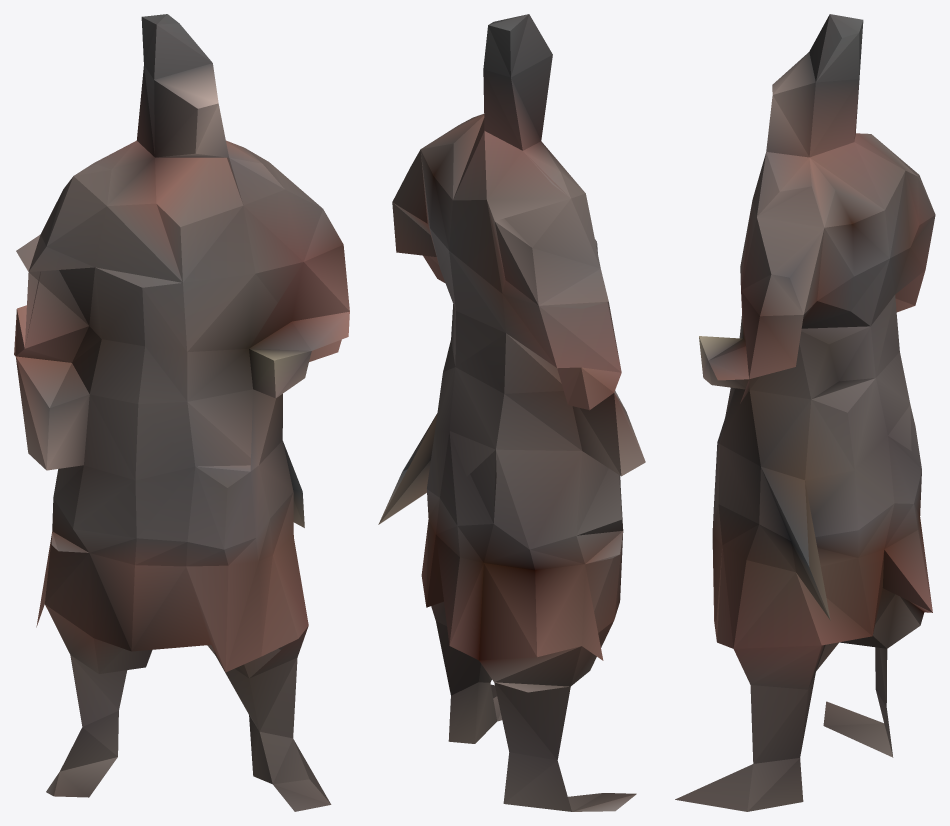
Rendered from guard2_lod2.glb.
3 renders of one model, left to right at view 1: azimuth 30°, elevation 25°; view 2: azimuth 150°, elevation 25°; view 3: azimuth 270°, elevation 25°, orthographic. The views are drawn at different scales.
Parts seen in each view (by area): view 1: geometry_0; view 2: geometry_0; view 3: geometry_0.
Part boxes in pixels (left/top/right/bottom): geometry_0: left=14, top=14, right=349, bottom=811; geometry_0: left=378, top=14, right=645, bottom=811; geometry_0: left=675, top=14, right=935, bottom=811.
Size of the model in its own units: 0.4123 by 1.13 by 0.3552.
